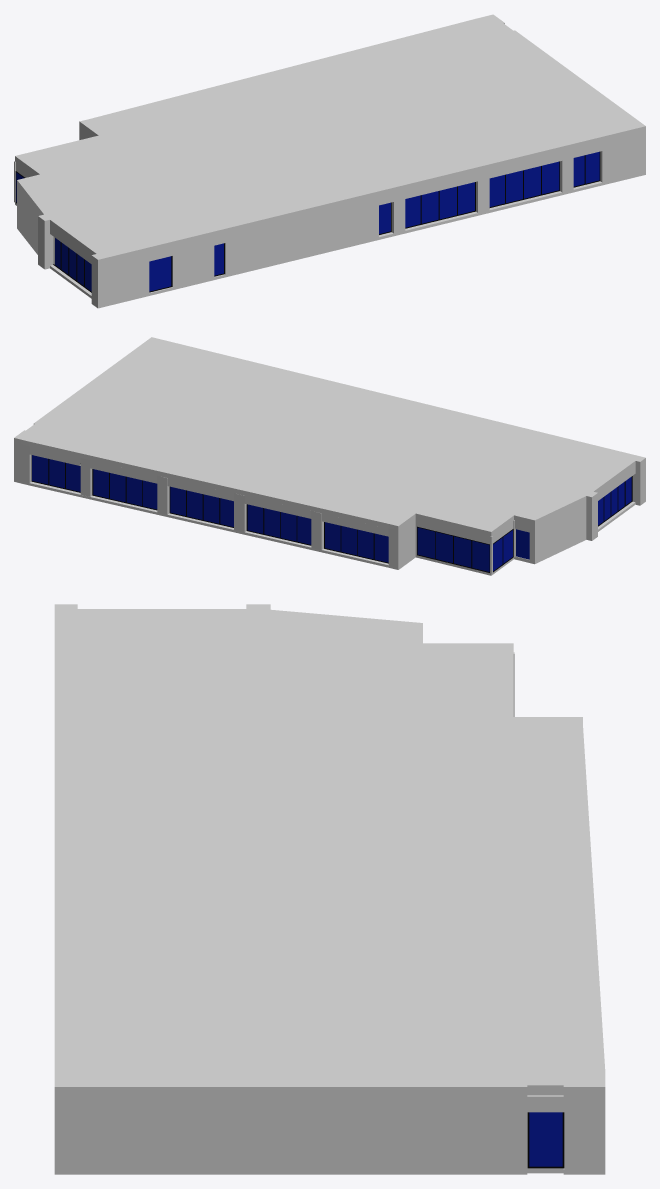
Rendered from BrightonOffice.fbx.
3 views of the same model, one above another, from view 1: azimuth 30°, elevation 25°; view 2: azimuth 150°, elevation 25°; view 3: azimuth 270°, elevation 25° (orthographic). The views are drawn at different scales.
Parts seen in each view (by area): view 1: Level4_Ceiling, pCube151, Level4_Floor, windows11, windows4, pCube152, pCube163, pCube175, pCube160, Window7, pCube168, pCube6 (+8 smaller); view 2: Level4_Ceiling, pCube172, Level4_Floor, pCube168, windows7, windows1, windows6, windows10, windows3, windows, Window7, pCube137 (+11 smaller); view 3: Level4_Ceiling, pCube10, Level4_Floor, pCube11, windows13.
Part boxes in pixels (x1,y1,x2,y2): Level4_Ceiling: (15, 14, 645, 264); pCube151: (234, 207, 335, 272); Level4_Floor: (15, 172, 645, 308); windows11: (405, 182, 474, 227); windows4: (489, 161, 559, 206); pCube152: (335, 196, 378, 247); pCube163: (172, 237, 214, 287); pCube175: (600, 133, 640, 182); pCube160: (111, 255, 140, 302); Window7: (55, 238, 91, 291); pCube168: (17, 185, 40, 251); pCube6: (91, 261, 110, 305); Level4_Ceiling: (14, 337, 645, 536); pCube172: (29, 446, 388, 536); Level4_Floor: (14, 479, 645, 575); pCube168: (529, 501, 586, 561); windows7: (417, 527, 489, 571); windows1: (247, 504, 311, 544); windows6: (325, 522, 388, 562); windows10: (93, 469, 157, 509); windows3: (170, 486, 233, 526); windows: (32, 455, 80, 491); Window7: (598, 477, 631, 525); pCube137: (393, 519, 415, 567); Level4_Ceiling: (54, 604, 605, 1096); pCube10: (54, 1095, 527, 1169); Level4_Floor: (54, 1168, 605, 1174); pCube11: (564, 1096, 605, 1169); windows13: (529, 1112, 562, 1166).
Size of the model in its own units: 4875 by 414 by 2352.
